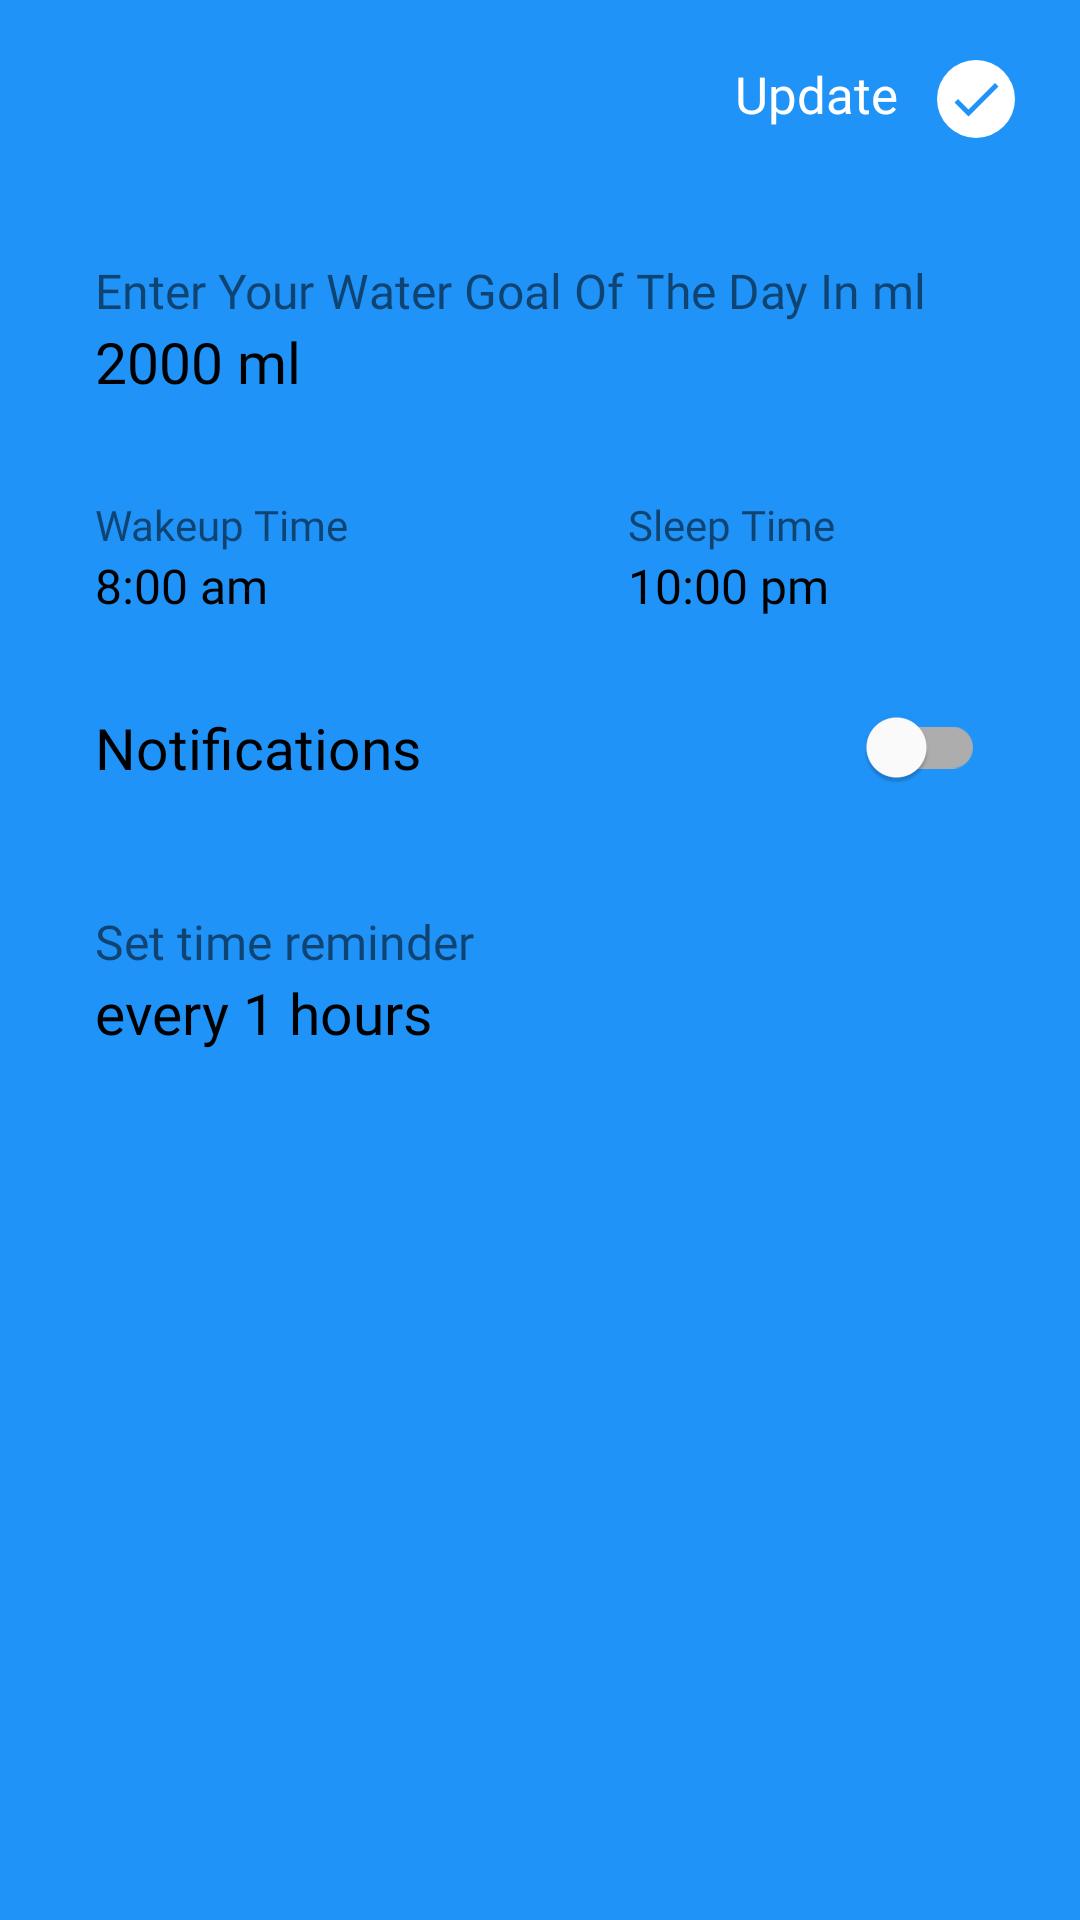

Where to tap for icons on this 1080x1920 app screen, as (x=x, y=y):
check: (x=976, y=99)
